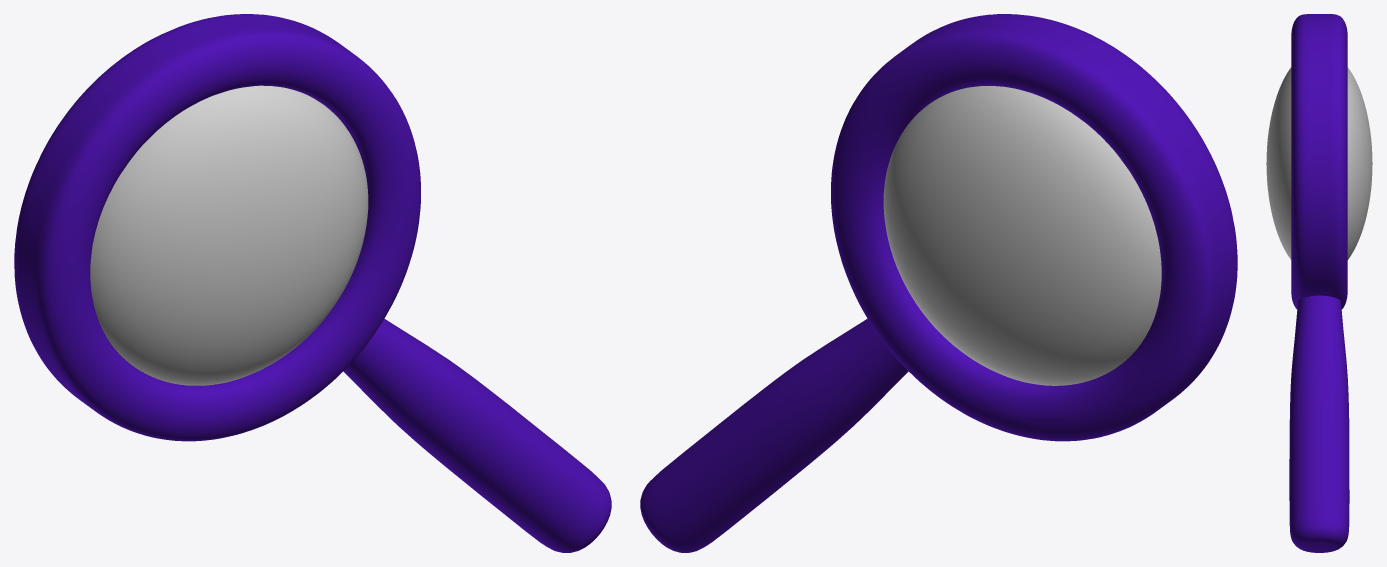
Rendered from zoom.glb.
3 renders of one model, left to right at view 1: azimuth 30°, elevation 25°; view 2: azimuth 150°, elevation 25°; view 3: azimuth 270°, elevation 25°, orthographic. The views are drawn at different scales.
Parts seen in each view (by area): view 1: Outer; view 2: Outer; view 3: Outer.
Part boxes in pixels (x1,y1,x2,y2): Outer: (14,14,611,552); Outer: (640,14,1237,552); Outer: (1266,14,1372,552).
Bounding box in the file's own units: 1.78 × 1.78 × 0.416.
